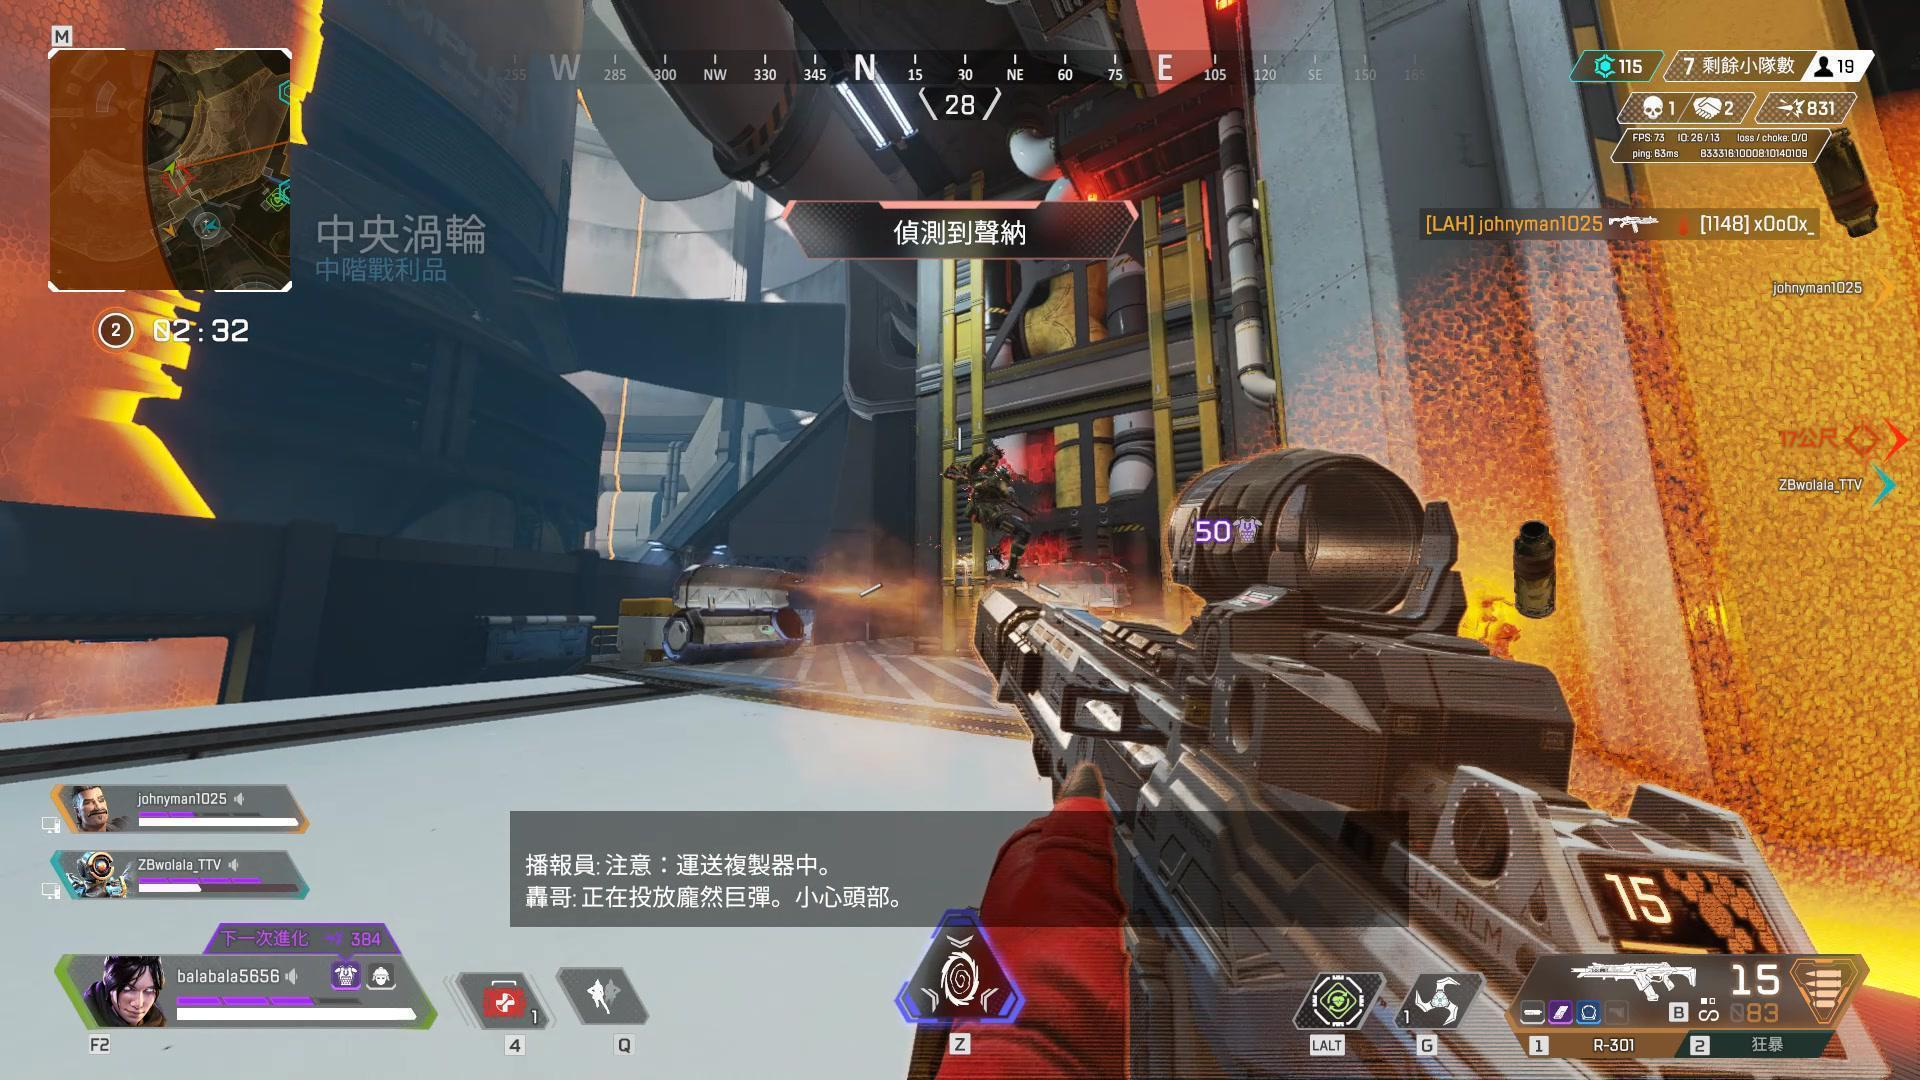avatar: (961, 446, 1037, 584)
